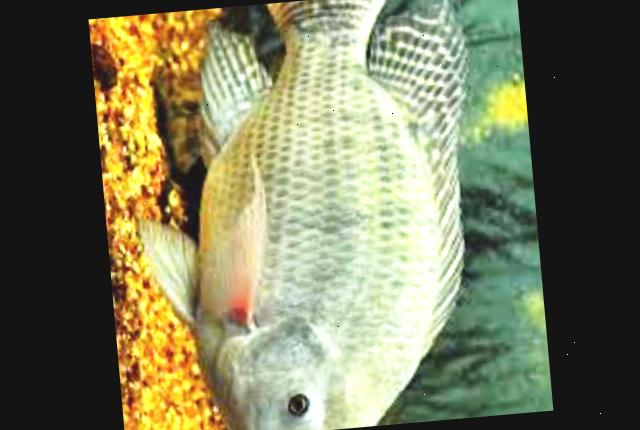Healthy Fish: (133, 0, 466, 430)
